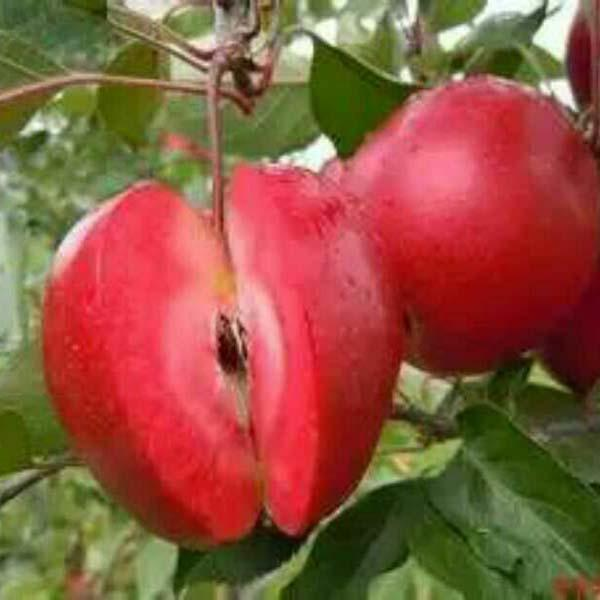apple: (33, 163, 404, 546), (337, 77, 597, 375)
